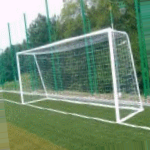goals: (16, 26, 146, 126)
